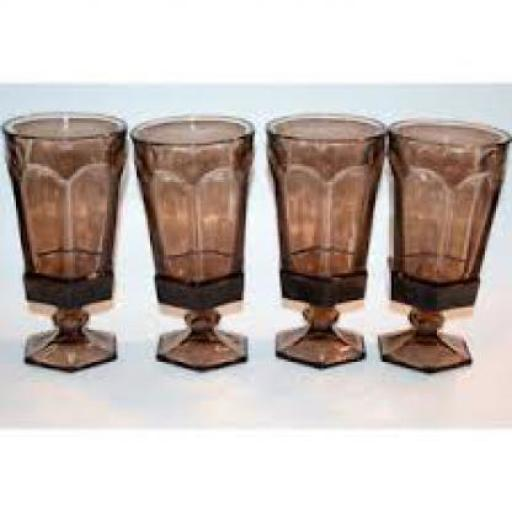glass: (376, 118, 510, 369), (0, 111, 128, 371), (130, 116, 250, 369), (264, 112, 382, 368)
